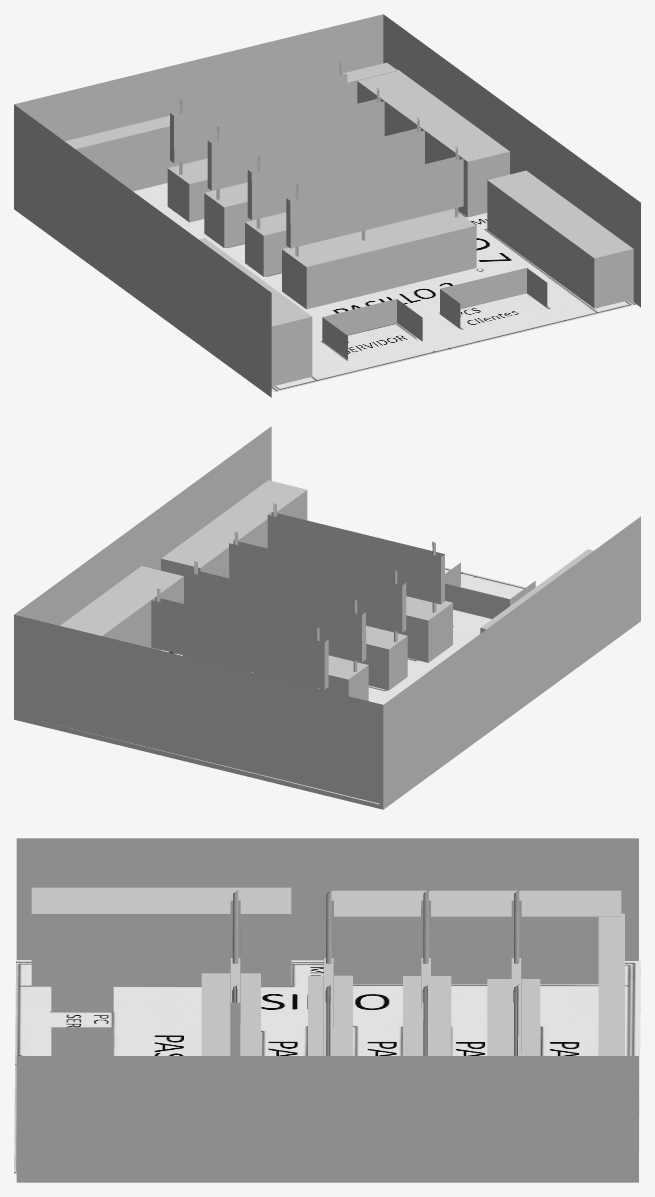
The model's file is modelo.glb.
3 renders of one model, top to bottom at view 1: azimuth 30°, elevation 25°; view 2: azimuth 150°, elevation 25°; view 3: azimuth 270°, elevation 25°, orthographic. The views are drawn at different scales.
Parts seen in each view (by area): view 1: Cube, Plane; view 2: Cube, Plane; view 3: Cube, Plane.
Boxes of the visible parts, x1,y1,x2,y2 form: Cube: (14,14,640,397); Plane: (133,183,636,392); Cube: (14,426,640,809); Plane: (69,567,525,804); Cube: (16,838,638,1182); Plane: (14,960,640,1173).
Size of the model in its own units: 63.76 by 21.94 by 77.58.
Materials: 2 (1 with a texture image).
